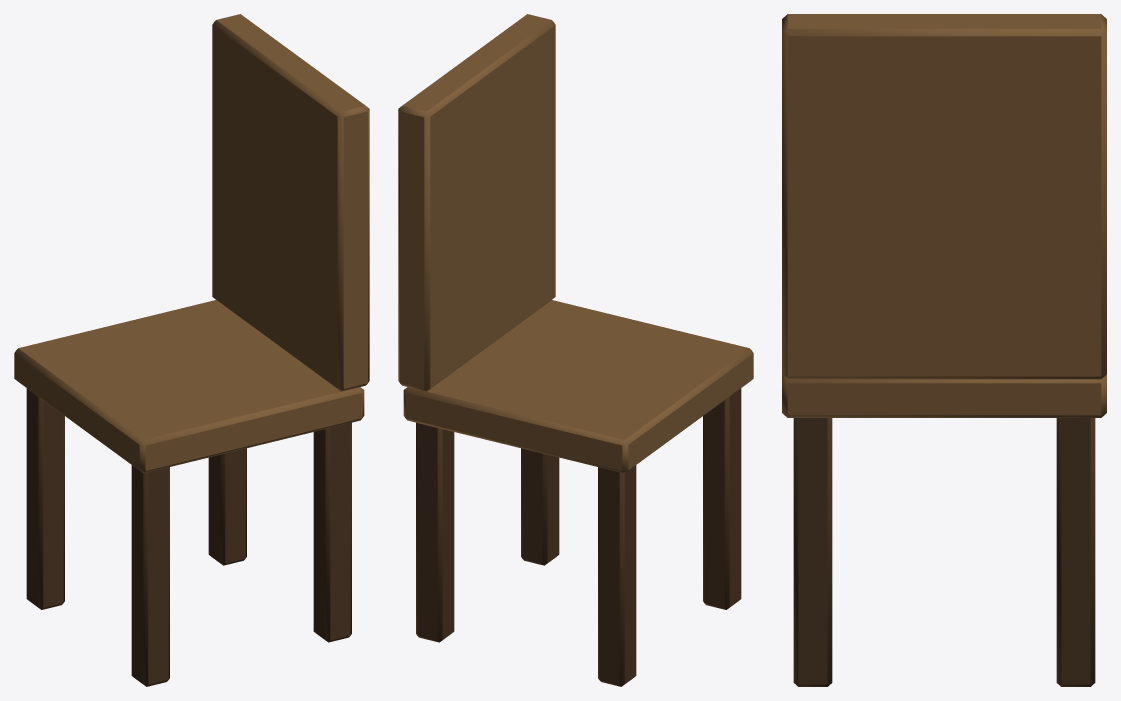
The model's file is chair.glb.
The picture shows the model from 3 angles, left to right: view 1: azimuth 30°, elevation 25°; view 2: azimuth 150°, elevation 25°; view 3: azimuth 270°, elevation 25°; orthographic projection. The views are drawn at different scales.
Parts seen in each view (by area): view 1: building; view 2: building; view 3: building.
Boxes of the visible parts, x1,y1,x2,y2 form: building: (14,14,369,686); building: (398,14,753,686); building: (782,14,1106,686).
Bounding box in the file's own units: 0.43 × 0.95 × 0.42.
